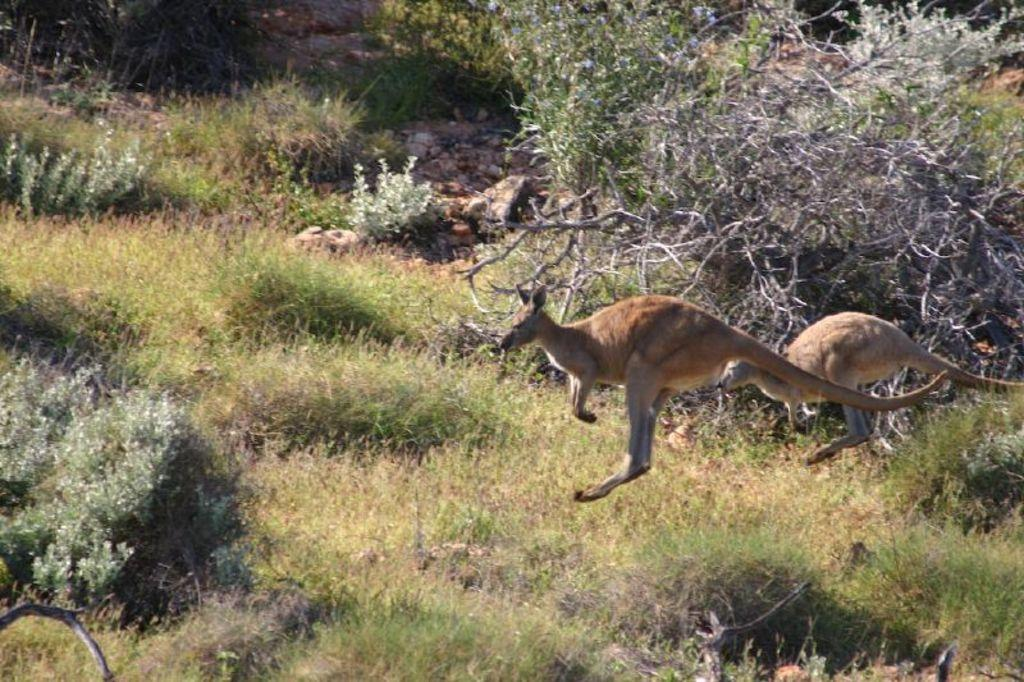kangaroo: (496, 296, 948, 499), (699, 311, 1023, 467)
